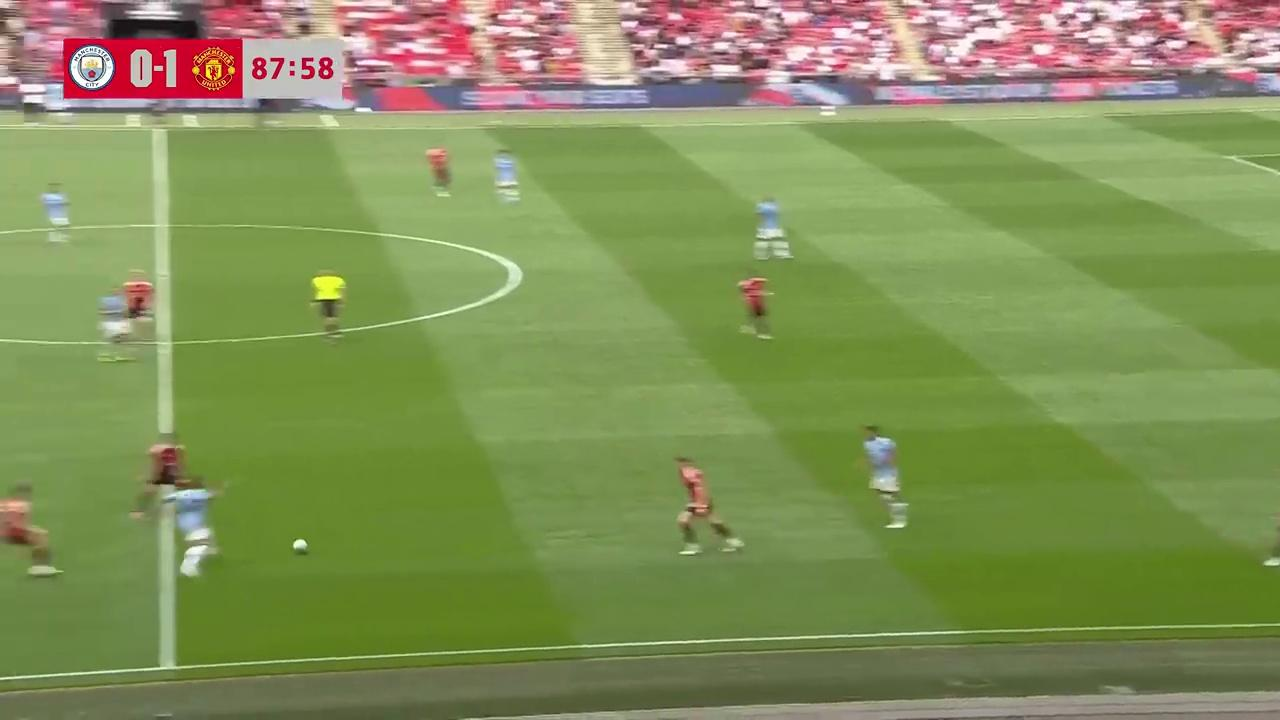ball: (290, 535, 310, 554)
player: (672, 457, 745, 555), (0, 480, 63, 579), (167, 477, 226, 576), (862, 424, 908, 528), (130, 437, 184, 515), (111, 273, 156, 337), (310, 268, 346, 342), (752, 196, 794, 258), (737, 272, 775, 339), (96, 289, 127, 359), (1260, 470, 1280, 577), (39, 184, 72, 234), (492, 151, 521, 204), (423, 146, 452, 196)
referee: (310, 269, 346, 342)
